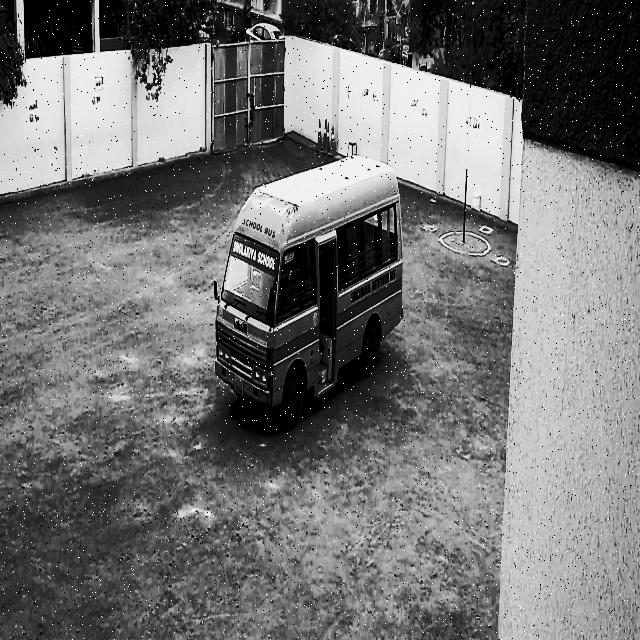Bus: (209, 146, 426, 437)
